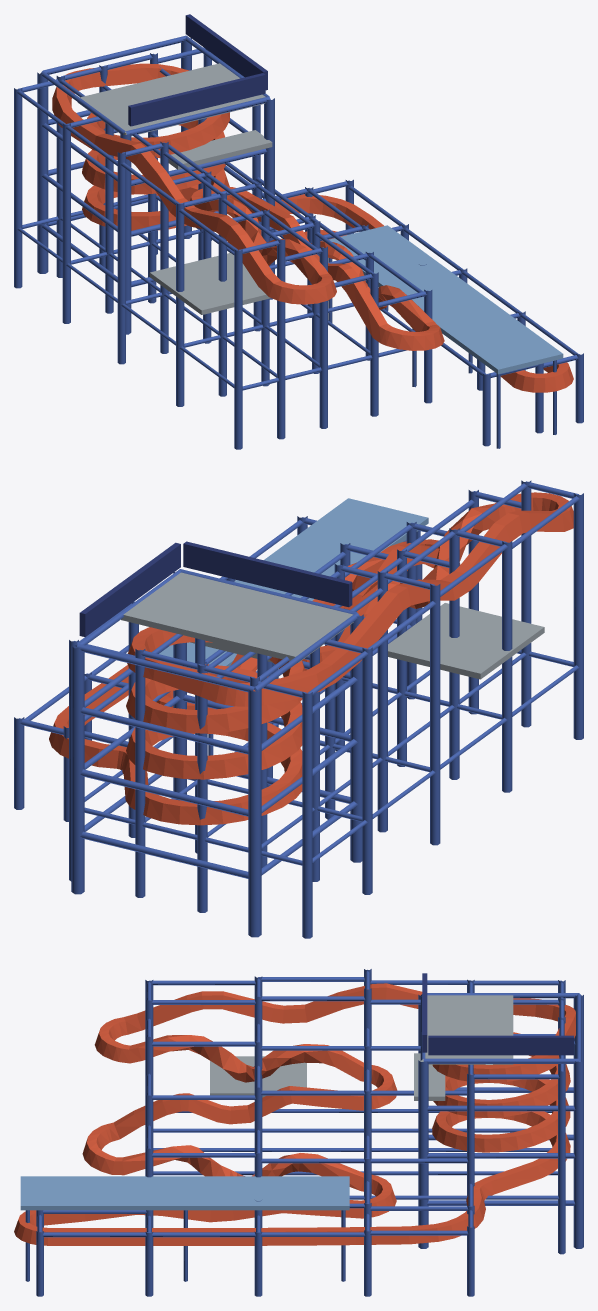
File: nyc-soarin-eagle.glb
3 renders of one model, top to bottom at view 1: azimuth 30°, elevation 25°; view 2: azimuth 150°, elevation 25°; view 3: azimuth 270°, elevation 25°, orthographic. The views are drawn at different scales.
Parts seen in each view (by area): view 1: Soarin' Eagle; view 2: Soarin' Eagle; view 3: Soarin' Eagle.
Boxes of the visible parts, left/top/right/bottom form: Soarin' Eagle: left=14, top=14, right=583, bottom=449; Soarin' Eagle: left=14, top=480, right=583, bottom=938; Soarin' Eagle: left=14, top=969, right=583, bottom=1296.
Bounding box in the file's own units: 25.88 × 19.1 × 46.97.
